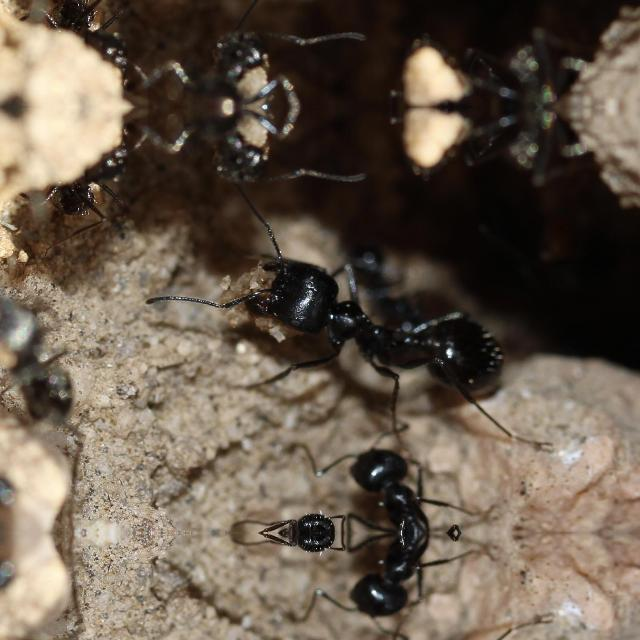Messor: (207, 228, 518, 430), (330, 428, 458, 532), (330, 533, 458, 637), (0, 291, 82, 439), (41, 139, 143, 215), (41, 0, 143, 73), (200, 123, 302, 191), (200, 21, 302, 89), (491, 106, 583, 180), (491, 32, 583, 106), (265, 492, 335, 532), (265, 534, 335, 572)
